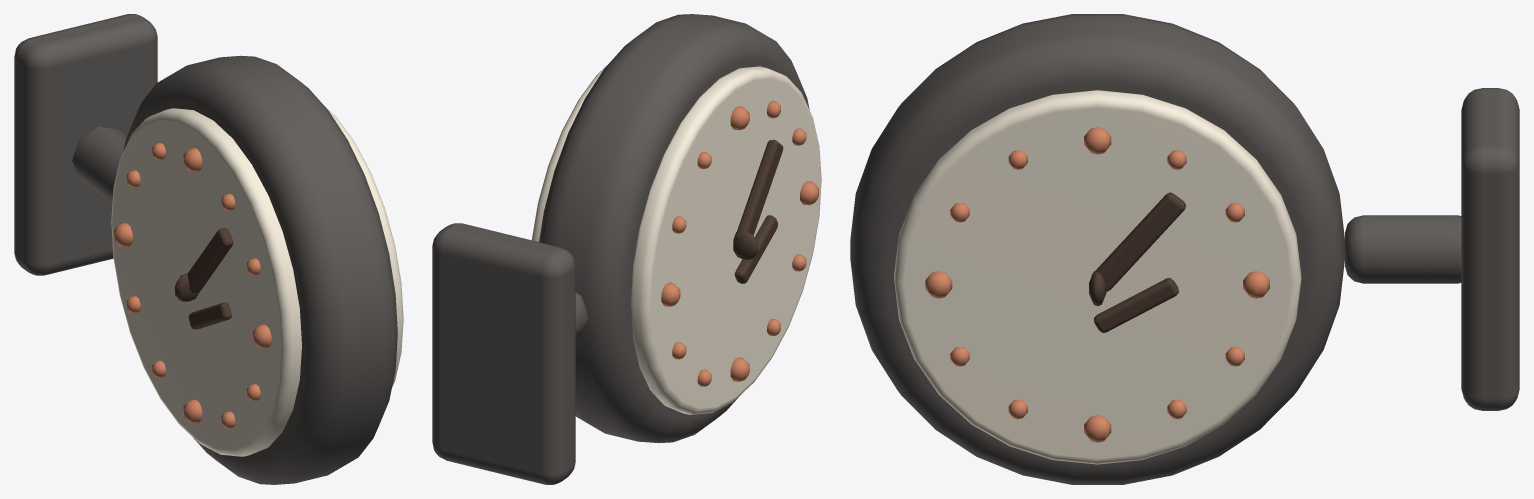
The model's file is station_wall_clock.glb.
3 renders of one model, left to right at view 1: azimuth 30°, elevation 25°; view 2: azimuth 150°, elevation 25°; view 3: azimuth 270°, elevation 25°, orthographic. The views are drawn at different scales.
Parts seen in each view (by area): view 1: station_wall_clock_mesh; view 2: station_wall_clock_mesh; view 3: station_wall_clock_mesh.
Boxes of the visible parts, box(x1,y1,x2,y2) form: station_wall_clock_mesh: box(14, 14, 403, 484); station_wall_clock_mesh: box(432, 14, 821, 484); station_wall_clock_mesh: box(850, 14, 1519, 484).
Size of the model in its own units: 0.15 by 0.3381 by 0.46.
